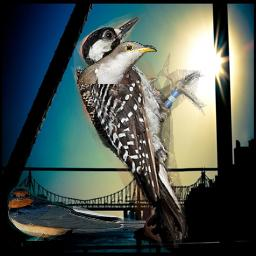Cuckoo: (77, 41, 157, 84)
Swallow: (4, 184, 146, 241)
Woodpecker: (65, 8, 220, 248)
